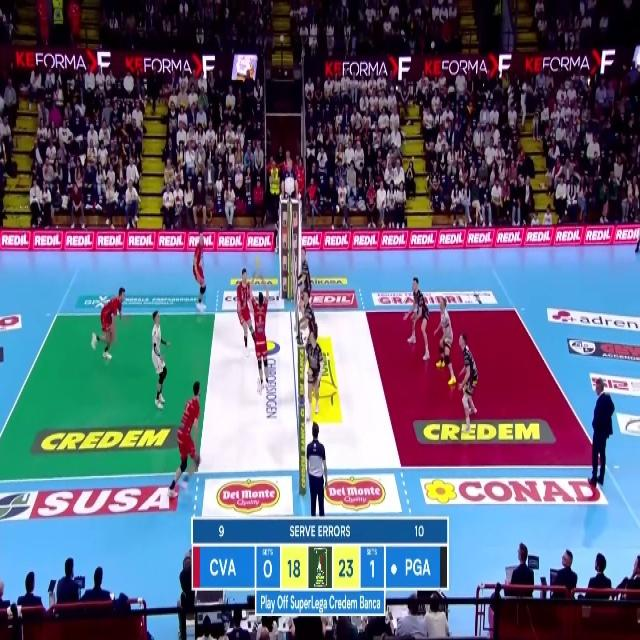volleyball court: (0, 310, 599, 480)
